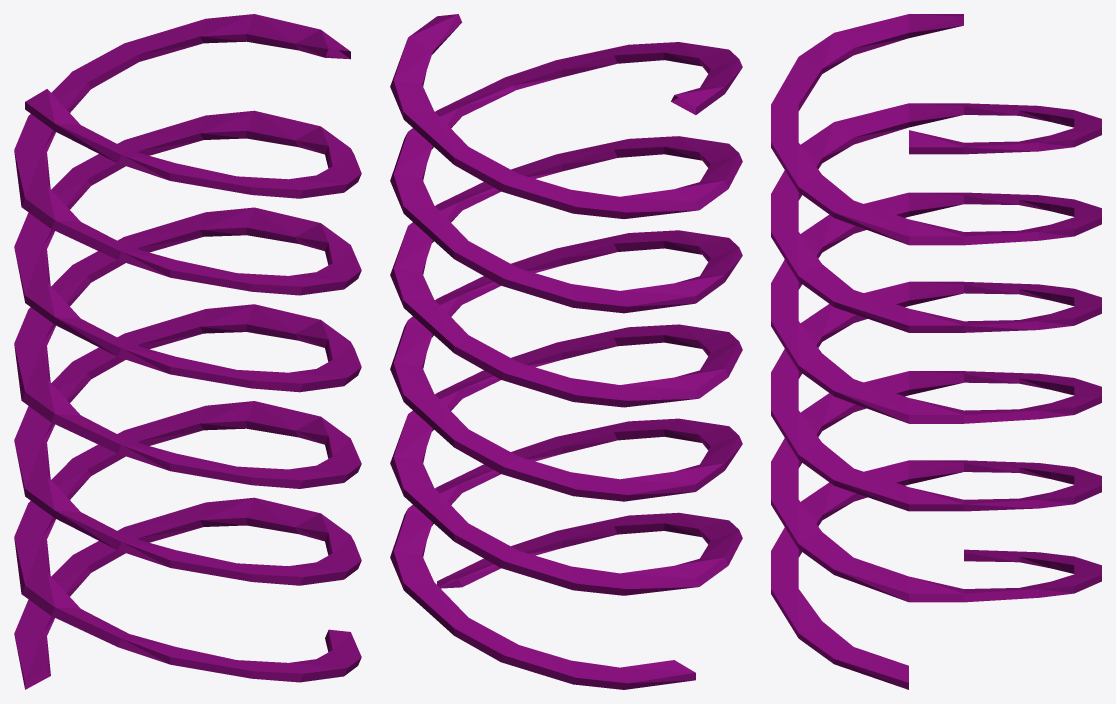
File: gfx_169.obj
The picture shows the model from 3 angles, left to right: view 1: azimuth 30°, elevation 25°; view 2: azimuth 150°, elevation 25°; view 3: azimuth 270°, elevation 25°; orthographic projection. The views are drawn at different scales.
Size of the model in its own units: 0.6406 by 1.2 by 0.6562.
